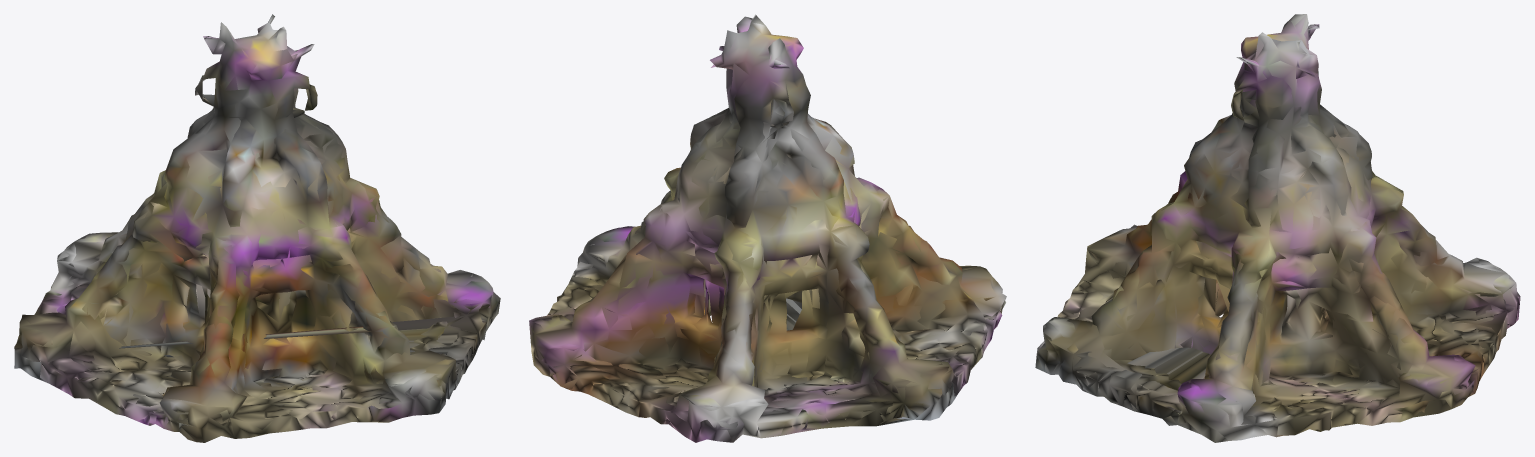
File: yuri_psychic_dominator.glb
3 renders of one model, left to right at view 1: azimuth 30°, elevation 25°; view 2: azimuth 150°, elevation 25°; view 3: azimuth 270°, elevation 25°, orthographic.
Visible parts, largest first — view 1: yuri_psychic_dominator; view 2: yuri_psychic_dominator; view 3: yuri_psychic_dominator.
Boxes of the visible parts, bbox=[...] form: yuri_psychic_dominator: bbox=[14, 14, 500, 442]; yuri_psychic_dominator: bbox=[529, 14, 1006, 442]; yuri_psychic_dominator: bbox=[1035, 14, 1520, 442].
Size of the model in its own units: 2.16 by 1.56 by 2.14.
